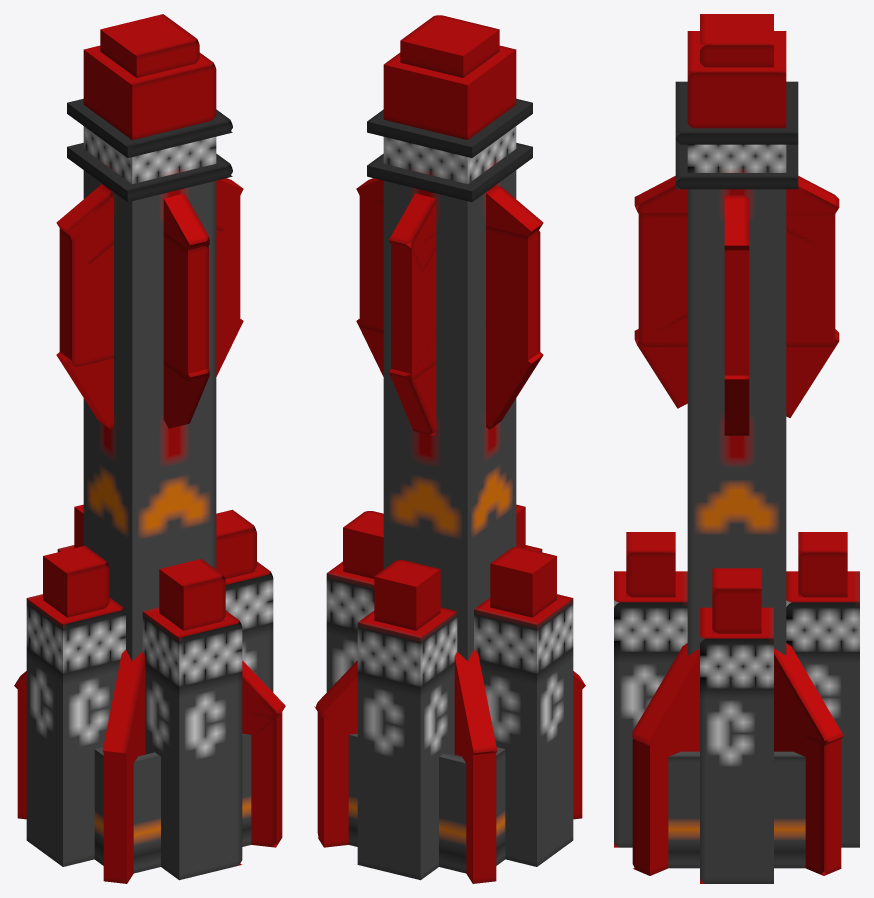
File: missile_cluster.obj
3 renders of one model, left to right at view 1: azimuth 30°, elevation 25°; view 2: azimuth 150°, elevation 25°; view 3: azimuth 270°, elevation 25°, orthographic.
Parts seen in each view (by area): view 1: Shape1, Shape7, Shape7g, Shape5, Shape8a, Shape5a, Shape3a, Shape8, Shape2, Shape7e, Shape7a, Shape7f (+13 smaller); view 2: Shape1, Shape7c, Shape7g, Shape5, Shape8a, Shape5a, Shape3, Shape8, Shape2a, Shape3a, Shape7e, Shape7b (+12 smaller); view 3: Shape1, Shape7e, Shape5a, Shape7, Shape7c, Shape2b, Shape8a, Shape3, Shape3a, Shape8, Shape3c, Shape3b (+12 smaller).
Boxes of the visible parts, left/top/right/bottom form: Shape1: left=83, top=126, right=216, bottom=661; Shape7: left=142, top=607, right=242, bottom=880; Shape7g: left=26, top=594, right=125, bottom=866; Shape5: left=59, top=196, right=240, bottom=367; Shape8a: left=83, top=45, right=216, bottom=139; Shape5a: left=163, top=232, right=208, bottom=381; Shape3a: left=17, top=686, right=282, bottom=847; Shape8: left=100, top=14, right=199, bottom=77; Shape2: left=133, top=733, right=251, bottom=873; Shape7e: left=225, top=561, right=273, bottom=692; Shape7a: left=159, top=559, right=225, bottom=630; Shape7f: left=43, top=546, right=109, bottom=617; Shape1: left=383, top=126, right=516, bottom=661; Shape7c: left=357, top=607, right=457, bottom=880; Shape7g: left=474, top=594, right=573, bottom=866; Shape5: left=359, top=195, right=540, bottom=360; Shape8a: left=383, top=45, right=516, bottom=139; Shape5a: left=391, top=233, right=436, bottom=381; Shape3: left=317, top=686, right=582, bottom=847; Shape8: left=400, top=15, right=499, bottom=77; Shape2a: left=348, top=733, right=466, bottom=873; Shape3a: left=454, top=723, right=496, bottom=883; Shape7e: left=326, top=561, right=374, bottom=692; Shape7b: left=374, top=560, right=440, bottom=630; Shape1: left=687, top=144, right=786, bottom=655; Shape7e: left=700, top=607, right=773, bottom=883; Shape5a: left=638, top=205, right=835, bottom=346; Shape7: left=614, top=571, right=687, bottom=847; Shape7c: left=786, top=571, right=859, bottom=847; Shape2b: left=668, top=751, right=805, bottom=868; Shape8a: left=687, top=31, right=786, bottom=128; Shape3: left=774, top=721, right=841, bottom=875; Shape3a: left=632, top=721, right=699, bottom=875; Shape8: left=700, top=14, right=773, bottom=67; Shape3c: left=774, top=643, right=843, bottom=746; Shape3b: left=632, top=643, right=699, bottom=745.
Bounding box in the file's own units: 1.25 × 4.5 × 1.25.
